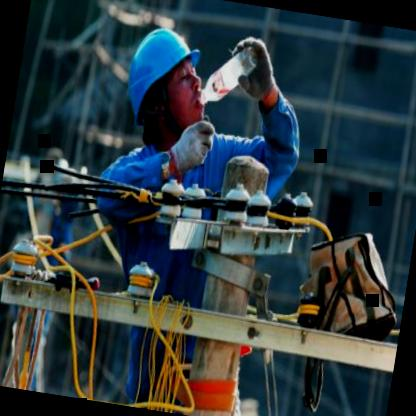helmet: (111, 13, 222, 154)
